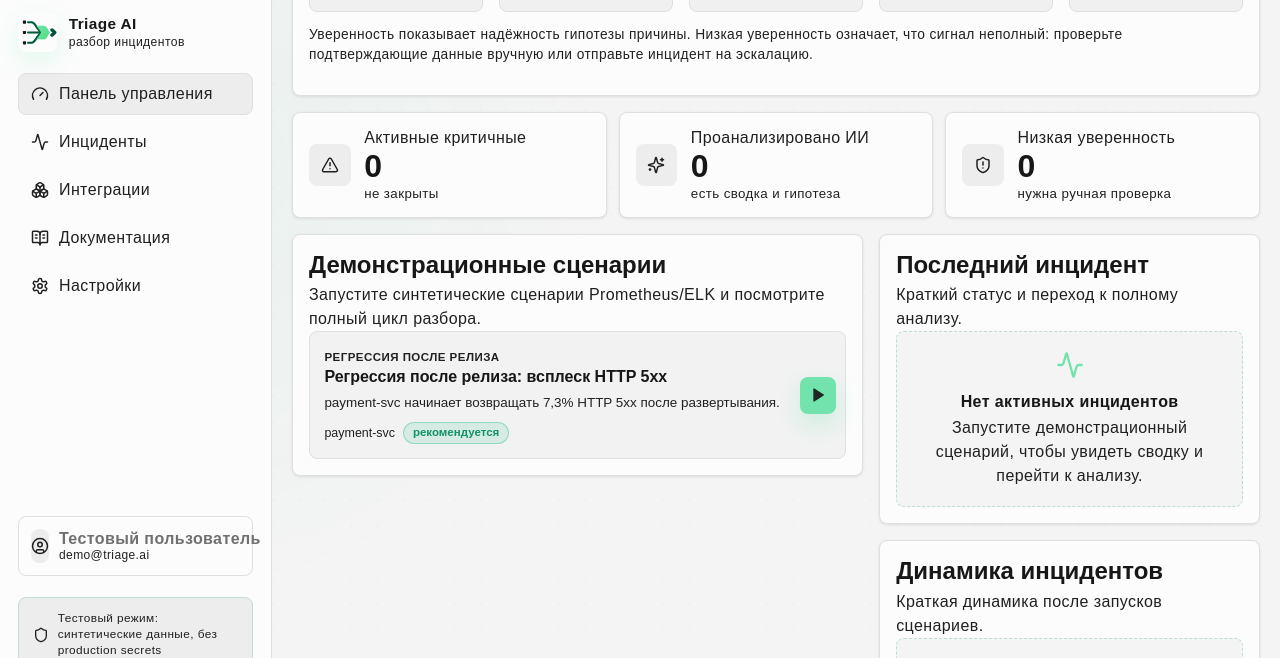
Test case: Triage AI MVP › runs a demonstration scenario, updates chart, and changes incident status
(page scrolled)
Expected: the text "Регрессия после релиза: всплеск HTTP 5xx" is shown, [324, 368, 667, 385]
Click the button named "Запустить сценарий Регрессия после релиза": click(818, 395) [800, 377, 836, 414]
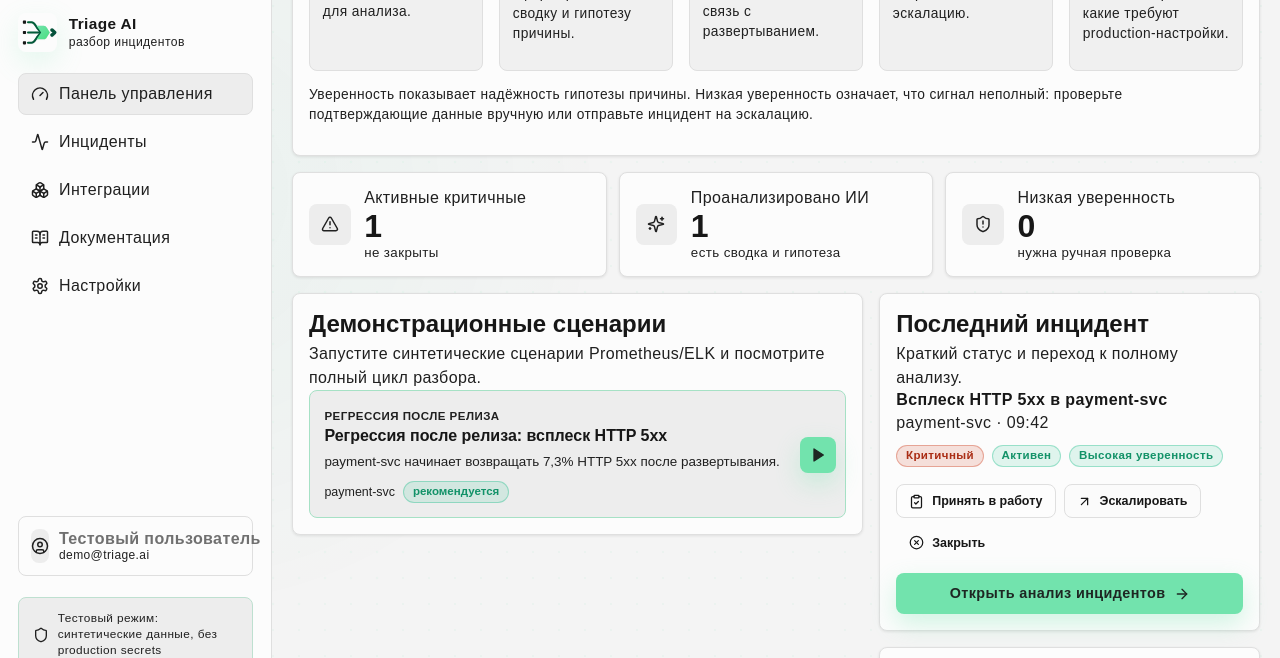
Click the link "Открыть анализ инцидентов": click(1070, 594) [896, 573, 1243, 614]
(page scrolled)
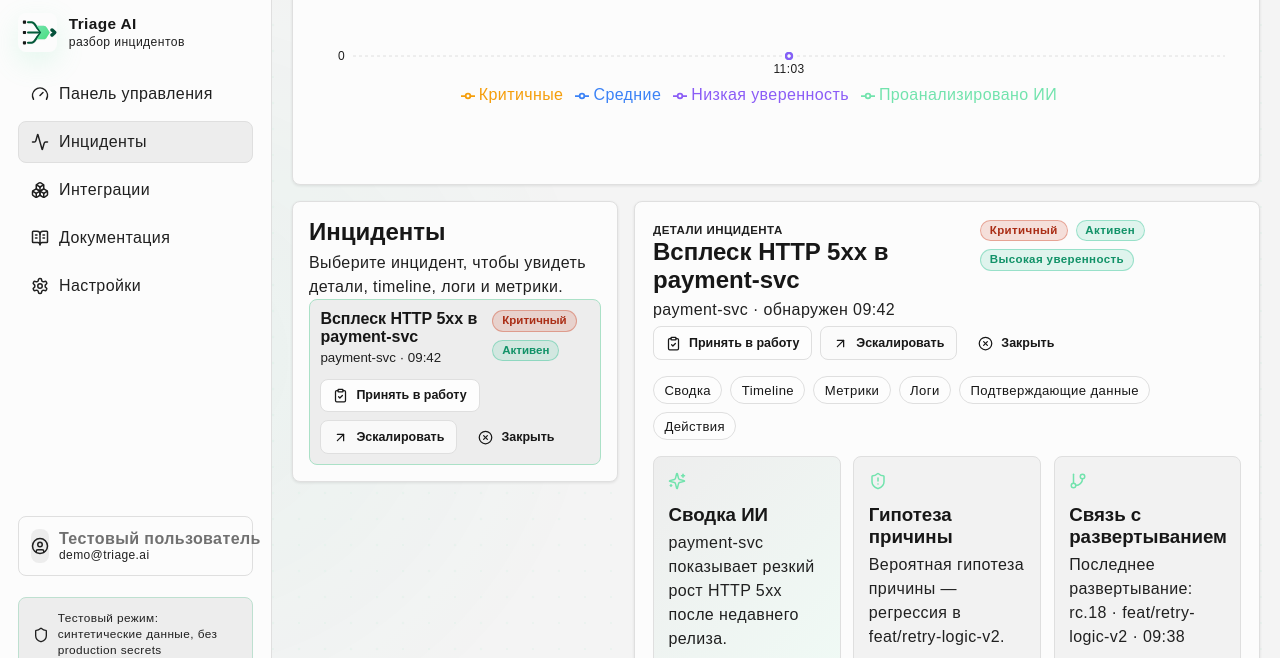
Result: the text "payment-svc показывает резкий рост HTTP 5xx" is shown at [668, 534, 815, 647]
Click the 2nd button "Принять в работу": click(400, 396) [320, 379, 480, 412]
(page scrolled)
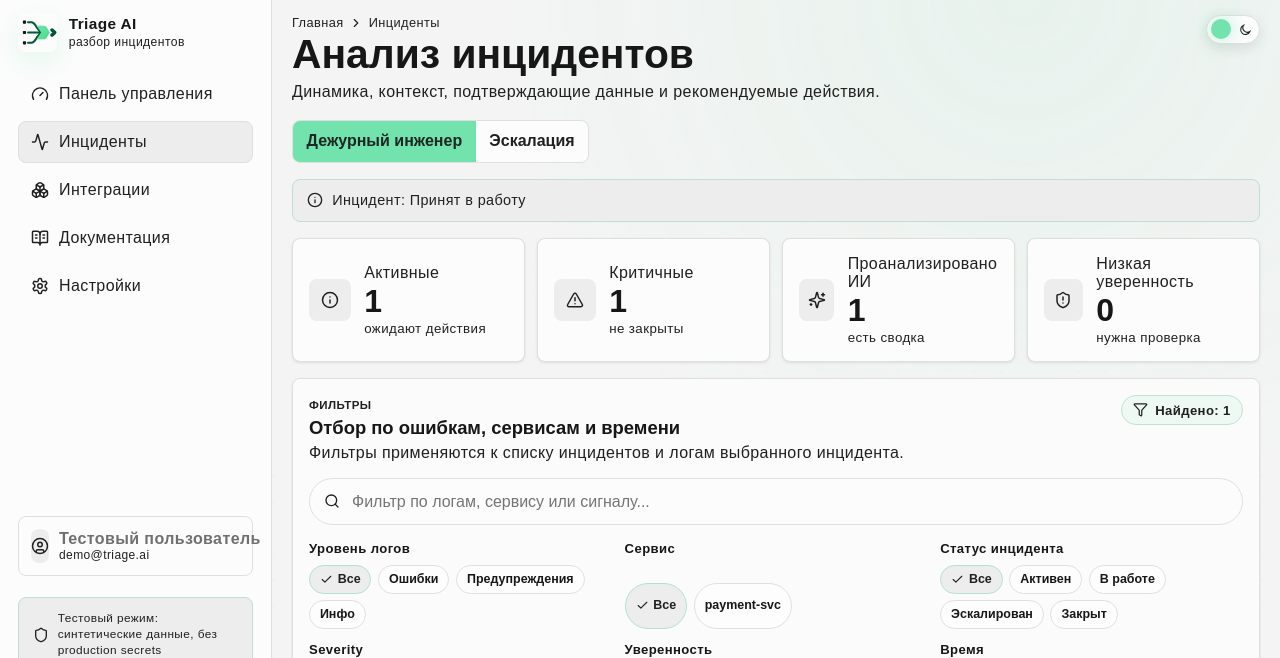
Result: the text "Инцидент: Принят в работу" is shown at [292, 179, 1260, 222]
